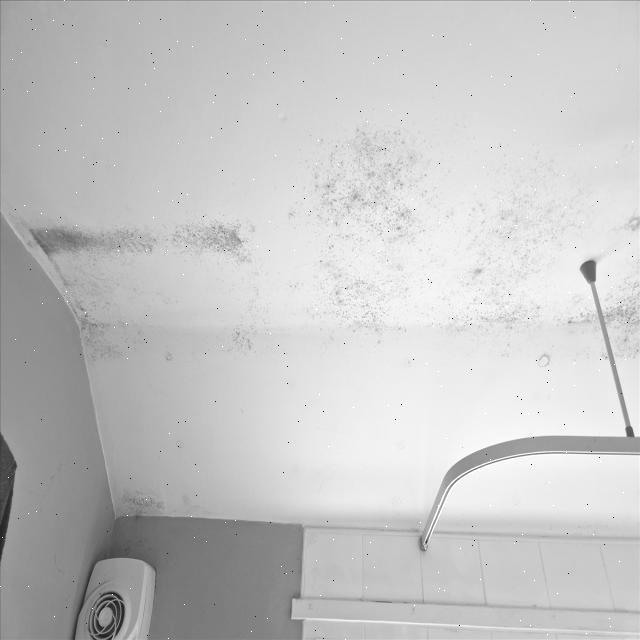stain marks: (420, 131, 590, 345), (271, 107, 437, 248), (4, 194, 278, 274), (286, 232, 438, 364), (44, 247, 187, 371), (562, 245, 640, 384), (207, 267, 288, 359), (490, 332, 571, 386), (604, 130, 640, 249), (110, 476, 172, 534), (173, 484, 217, 529), (109, 534, 141, 564), (460, 336, 487, 368), (176, 434, 185, 462)
